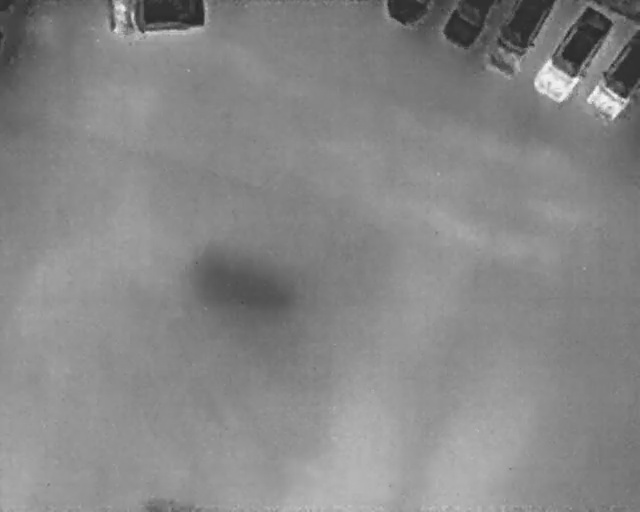Car: (527, 0, 621, 111), (483, 0, 557, 78), (583, 27, 639, 122), (107, 0, 208, 43), (441, 0, 496, 50), (386, 0, 432, 28)
